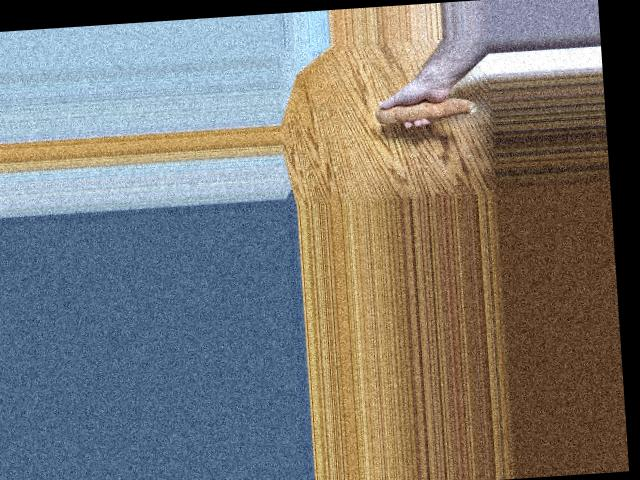sweet_potato: (367, 90, 479, 130)
